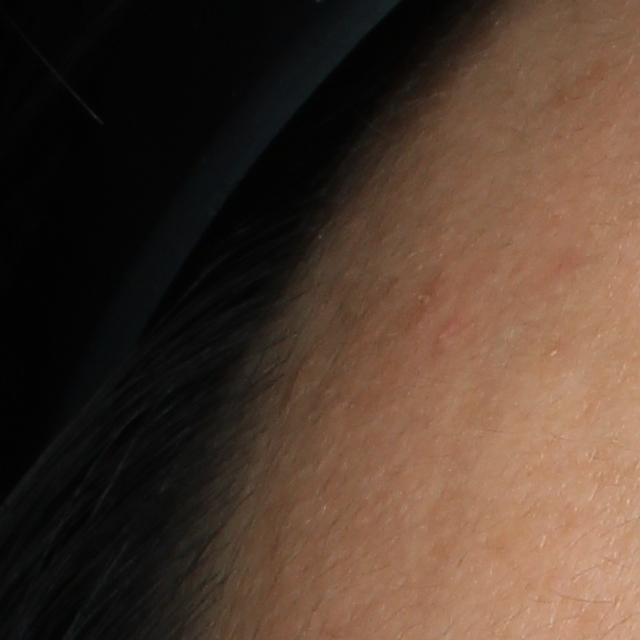papule: (431, 317, 462, 355)
